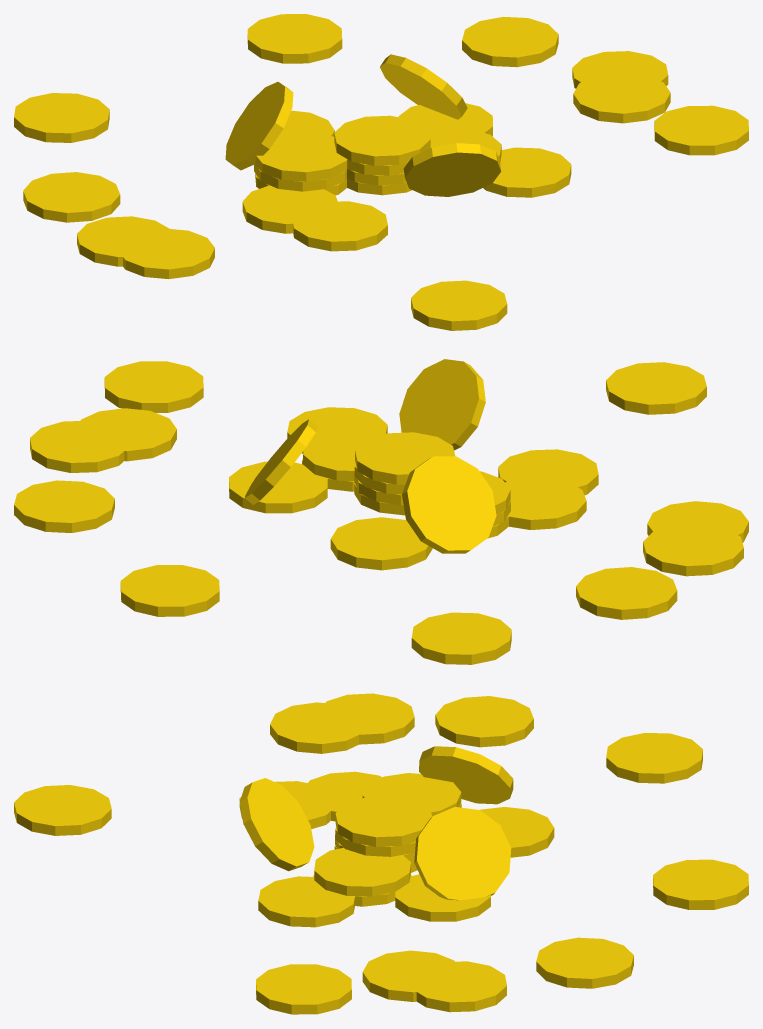
The model's file is GoldCoinPileScattered.fbx.
3 views of the same model, one above another, from view 1: azimuth 30°, elevation 25°; view 2: azimuth 150°, elevation 25°; view 3: azimuth 270°, elevation 25° (orthographic). The views are drawn at different scales.
Visible parts, largest first — view 1: GoldCoinPile_CoinMat_pile; view 2: GoldCoinPile_CoinMat_pile; view 3: GoldCoinPile_CoinMat_pile.
Part boxes in pixels (box(x1,y1,x2,y2)): GoldCoinPile_CoinMat_pile: box(14, 14, 748, 330); GoldCoinPile_CoinMat_pile: box(14, 359, 748, 664); GoldCoinPile_CoinMat_pile: box(14, 693, 748, 1014).
Bounding box in the file's own units: 477 × 55.74 × 476.
